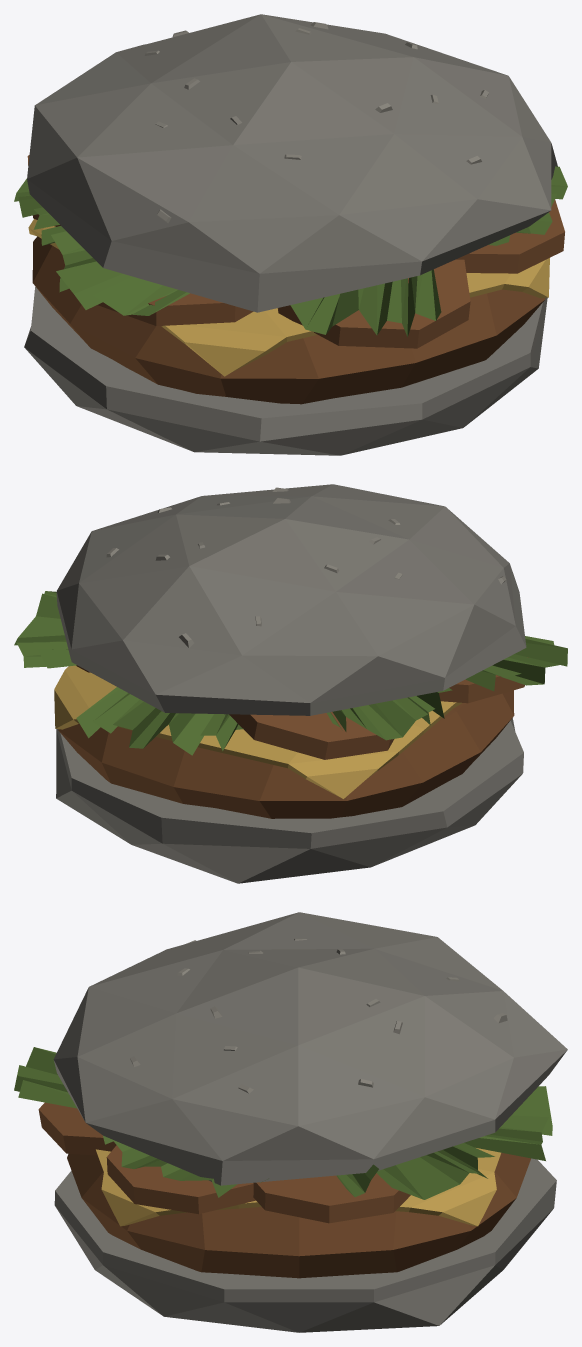
File: cc0-burger-lod0.glb
3 renders of one model, top to bottom at view 1: azimuth 30°, elevation 25°; view 2: azimuth 150°, elevation 25°; view 3: azimuth 270°, elevation 25°, orthographic. The views are drawn at different scales.
Parts seen in each view (by area): view 1: part_0; view 2: part_0; view 3: part_0.
Part boxes in pixels (x1=…): part_0: x1=14, y1=14, x2=567, y2=455; part_0: x1=14, y1=484, x2=567, y2=883; part_0: x1=14, y1=912, x2=567, y2=1332.
Size of the model in its own units: 1.65 by 1.07 by 1.7.
